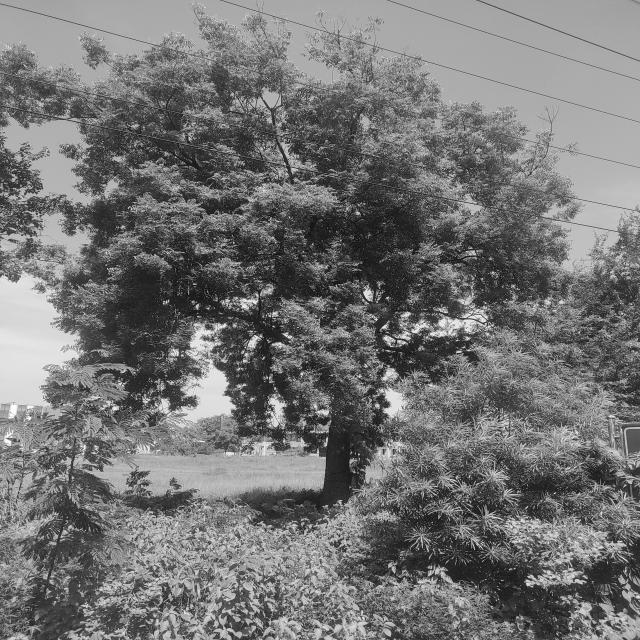Neem-Tree: (63, 70, 517, 340)
